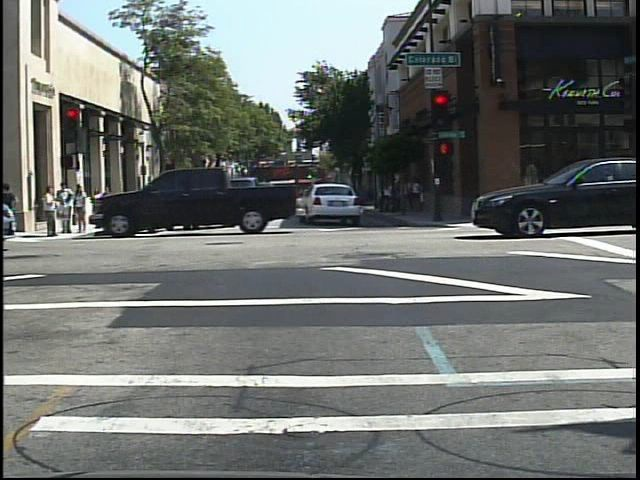person: (144, 180, 162, 220), (145, 180, 161, 215), (92, 186, 102, 227)
